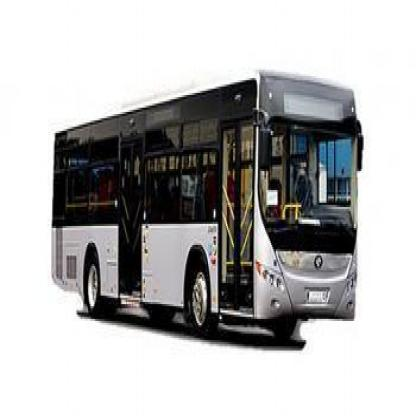Bus: (50, 69, 362, 371)
